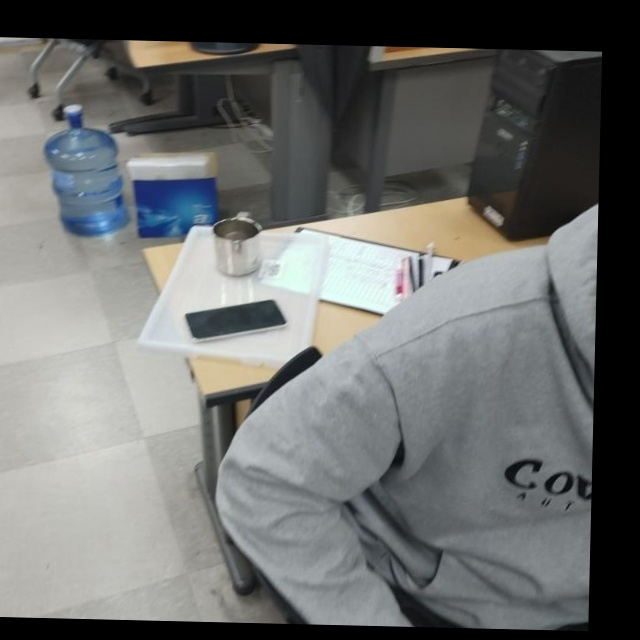cup: (211, 207, 264, 279)
phone: (183, 297, 288, 350)
